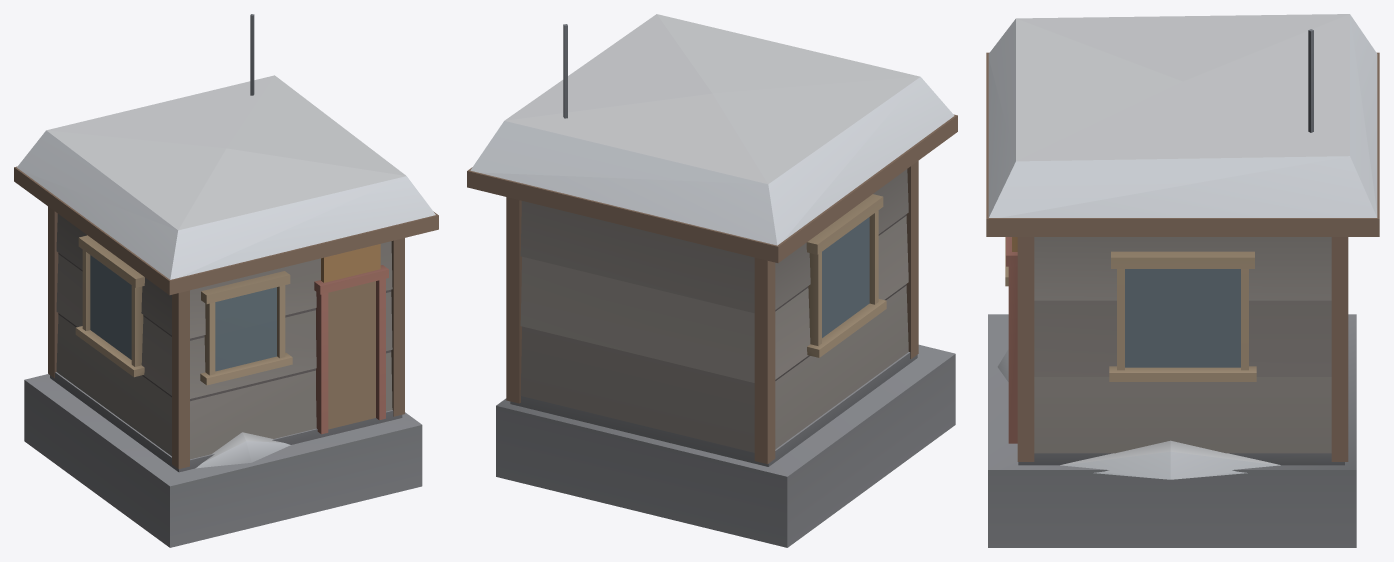
Rendered from patrol.lod1.glb.
3 views of the same model, side by side, from view 1: azimuth 30°, elevation 25°; view 2: azimuth 150°, elevation 25°; view 3: azimuth 270°, elevation 25° (orthographic). The views are drawn at different scales.
Size of the model in its own units: 4.76 by 6.56 by 4.76.
